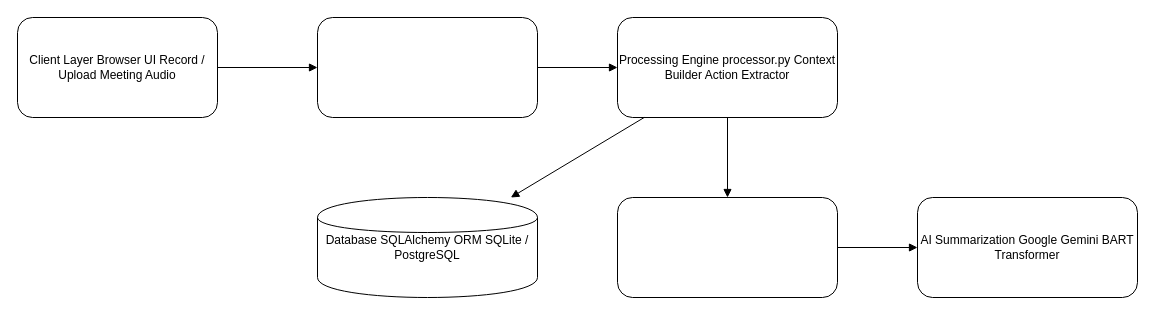
This 1155x315 diagram has some shape labels left out. The shapes that lost their labels are listed below. From the top down, each one's centre as x and y in pixels, then its label:
At (427,67): "Flask Backend Projects API Meetings API Action Items API".
At (727,247): "Speech Recognition Deepgram Whisper.cpp OpenAI Whisper".
